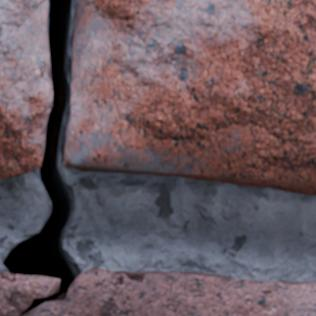broken_brick: (62, 0, 315, 182), (0, 267, 315, 315), (0, 0, 51, 180), (177, 177, 315, 196)
crack: (0, 0, 96, 314), (91, 165, 315, 186)
